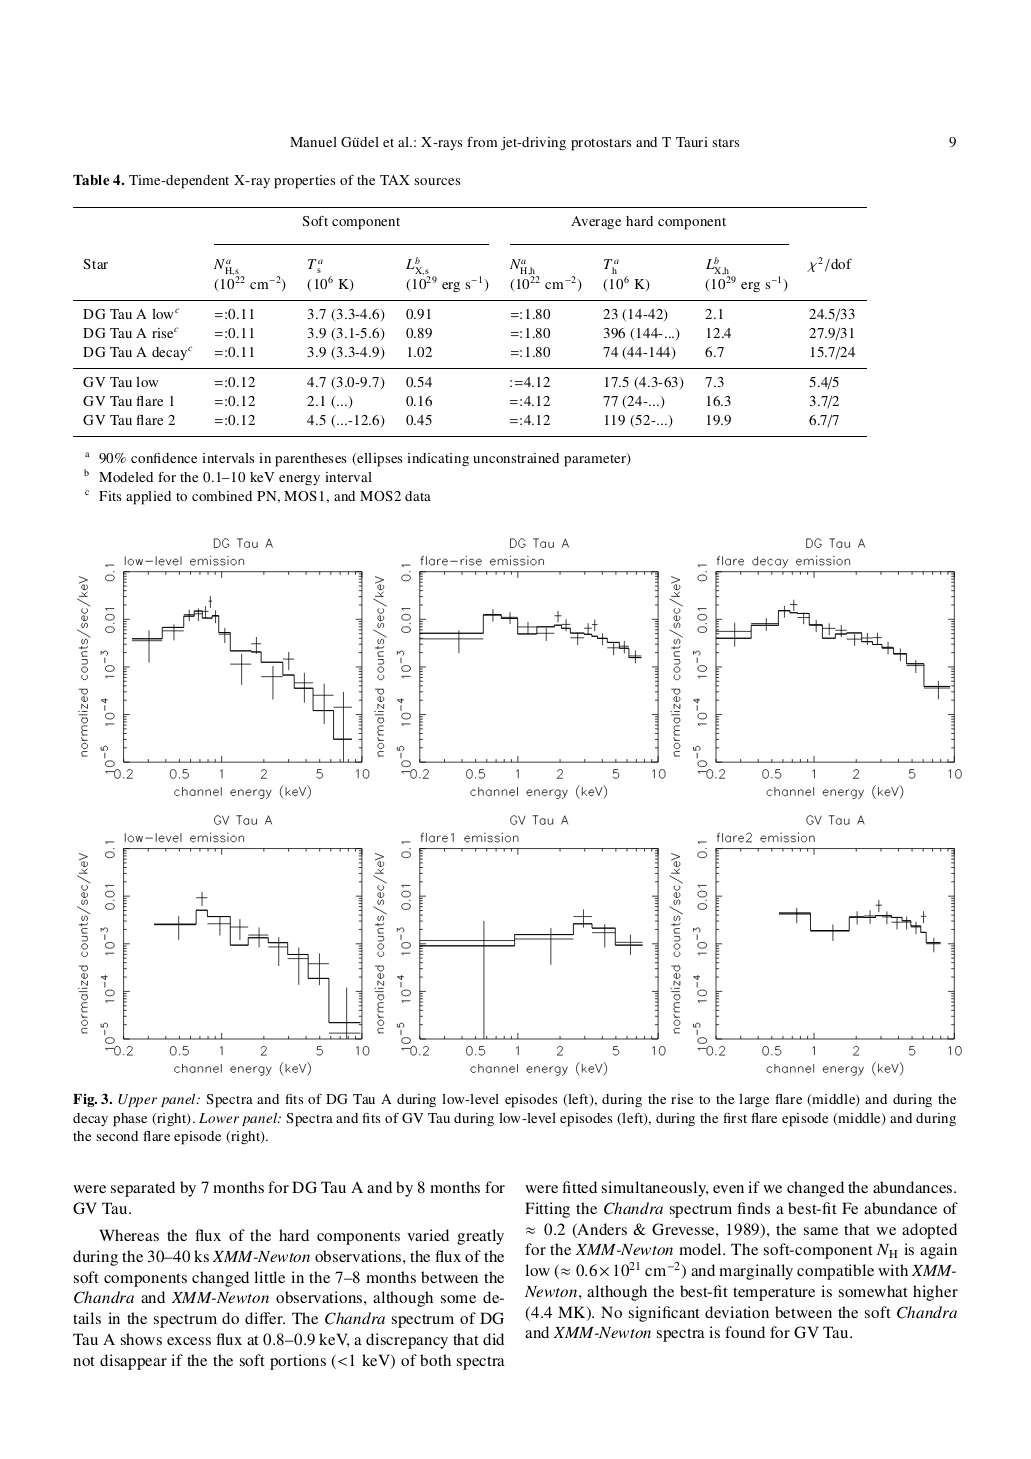Table: (73, 207, 866, 436)
figure: (373, 555, 665, 799), (77, 832, 369, 1075), (373, 832, 665, 1075), (669, 555, 961, 799), (669, 832, 961, 1075), (77, 555, 369, 798)
